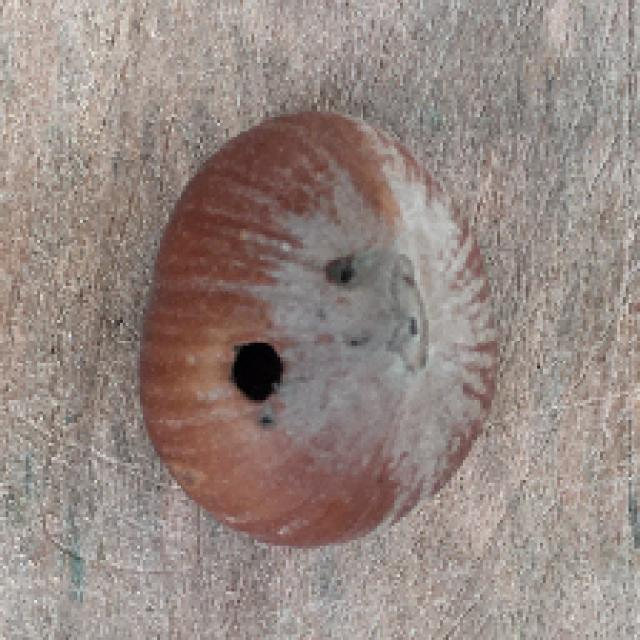damagedHazelnut: (136, 113, 496, 550)
